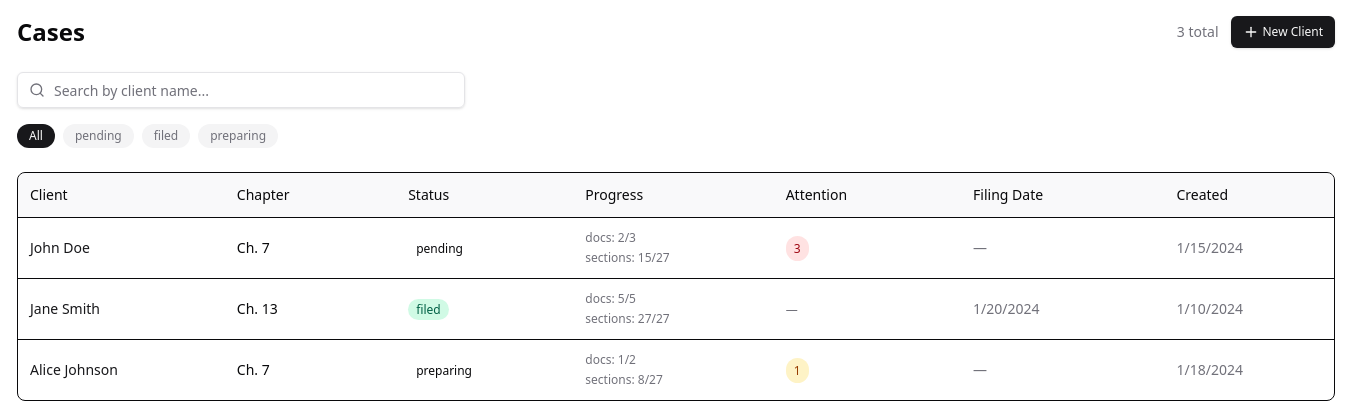
Test: StaffDashboard › should search cases by client name
Expected: the link "John Doe" is shown, left=30, top=238, right=90, bottom=257
Type "Jane" into the field labelled "Search by client name..." at coordinates (241, 90), box left=17, top=72, right=465, bottom=108
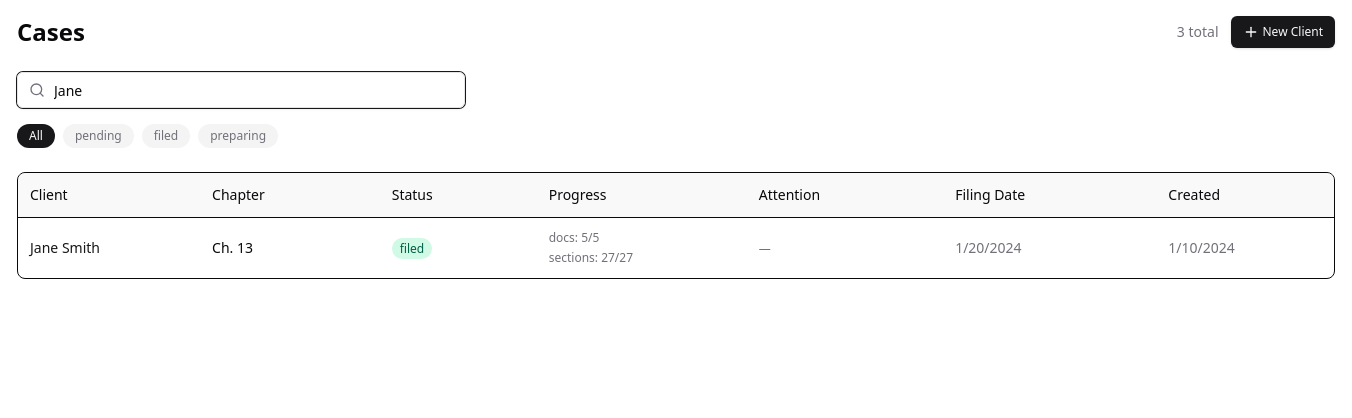
Expected: the link "Jane Smith" is shown, left=30, top=238, right=100, bottom=257
Expected: the link "John Doe" is gone
Expected: the link "Alice Johnson" is gone
